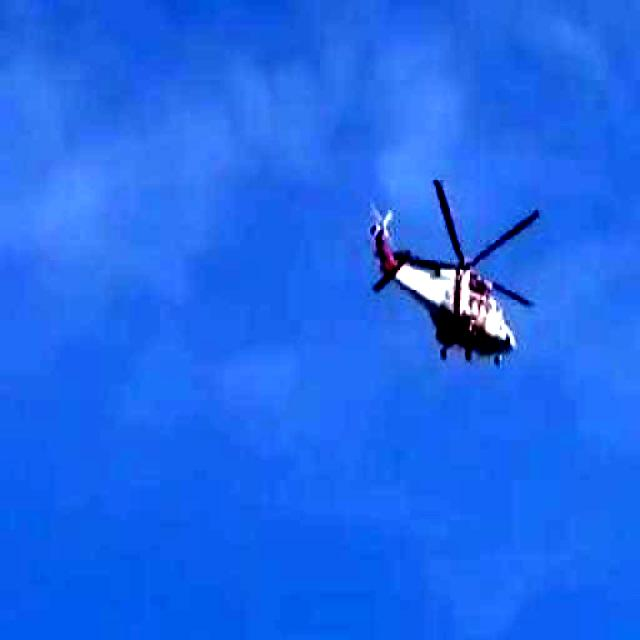drone: (304, 84, 640, 444)
